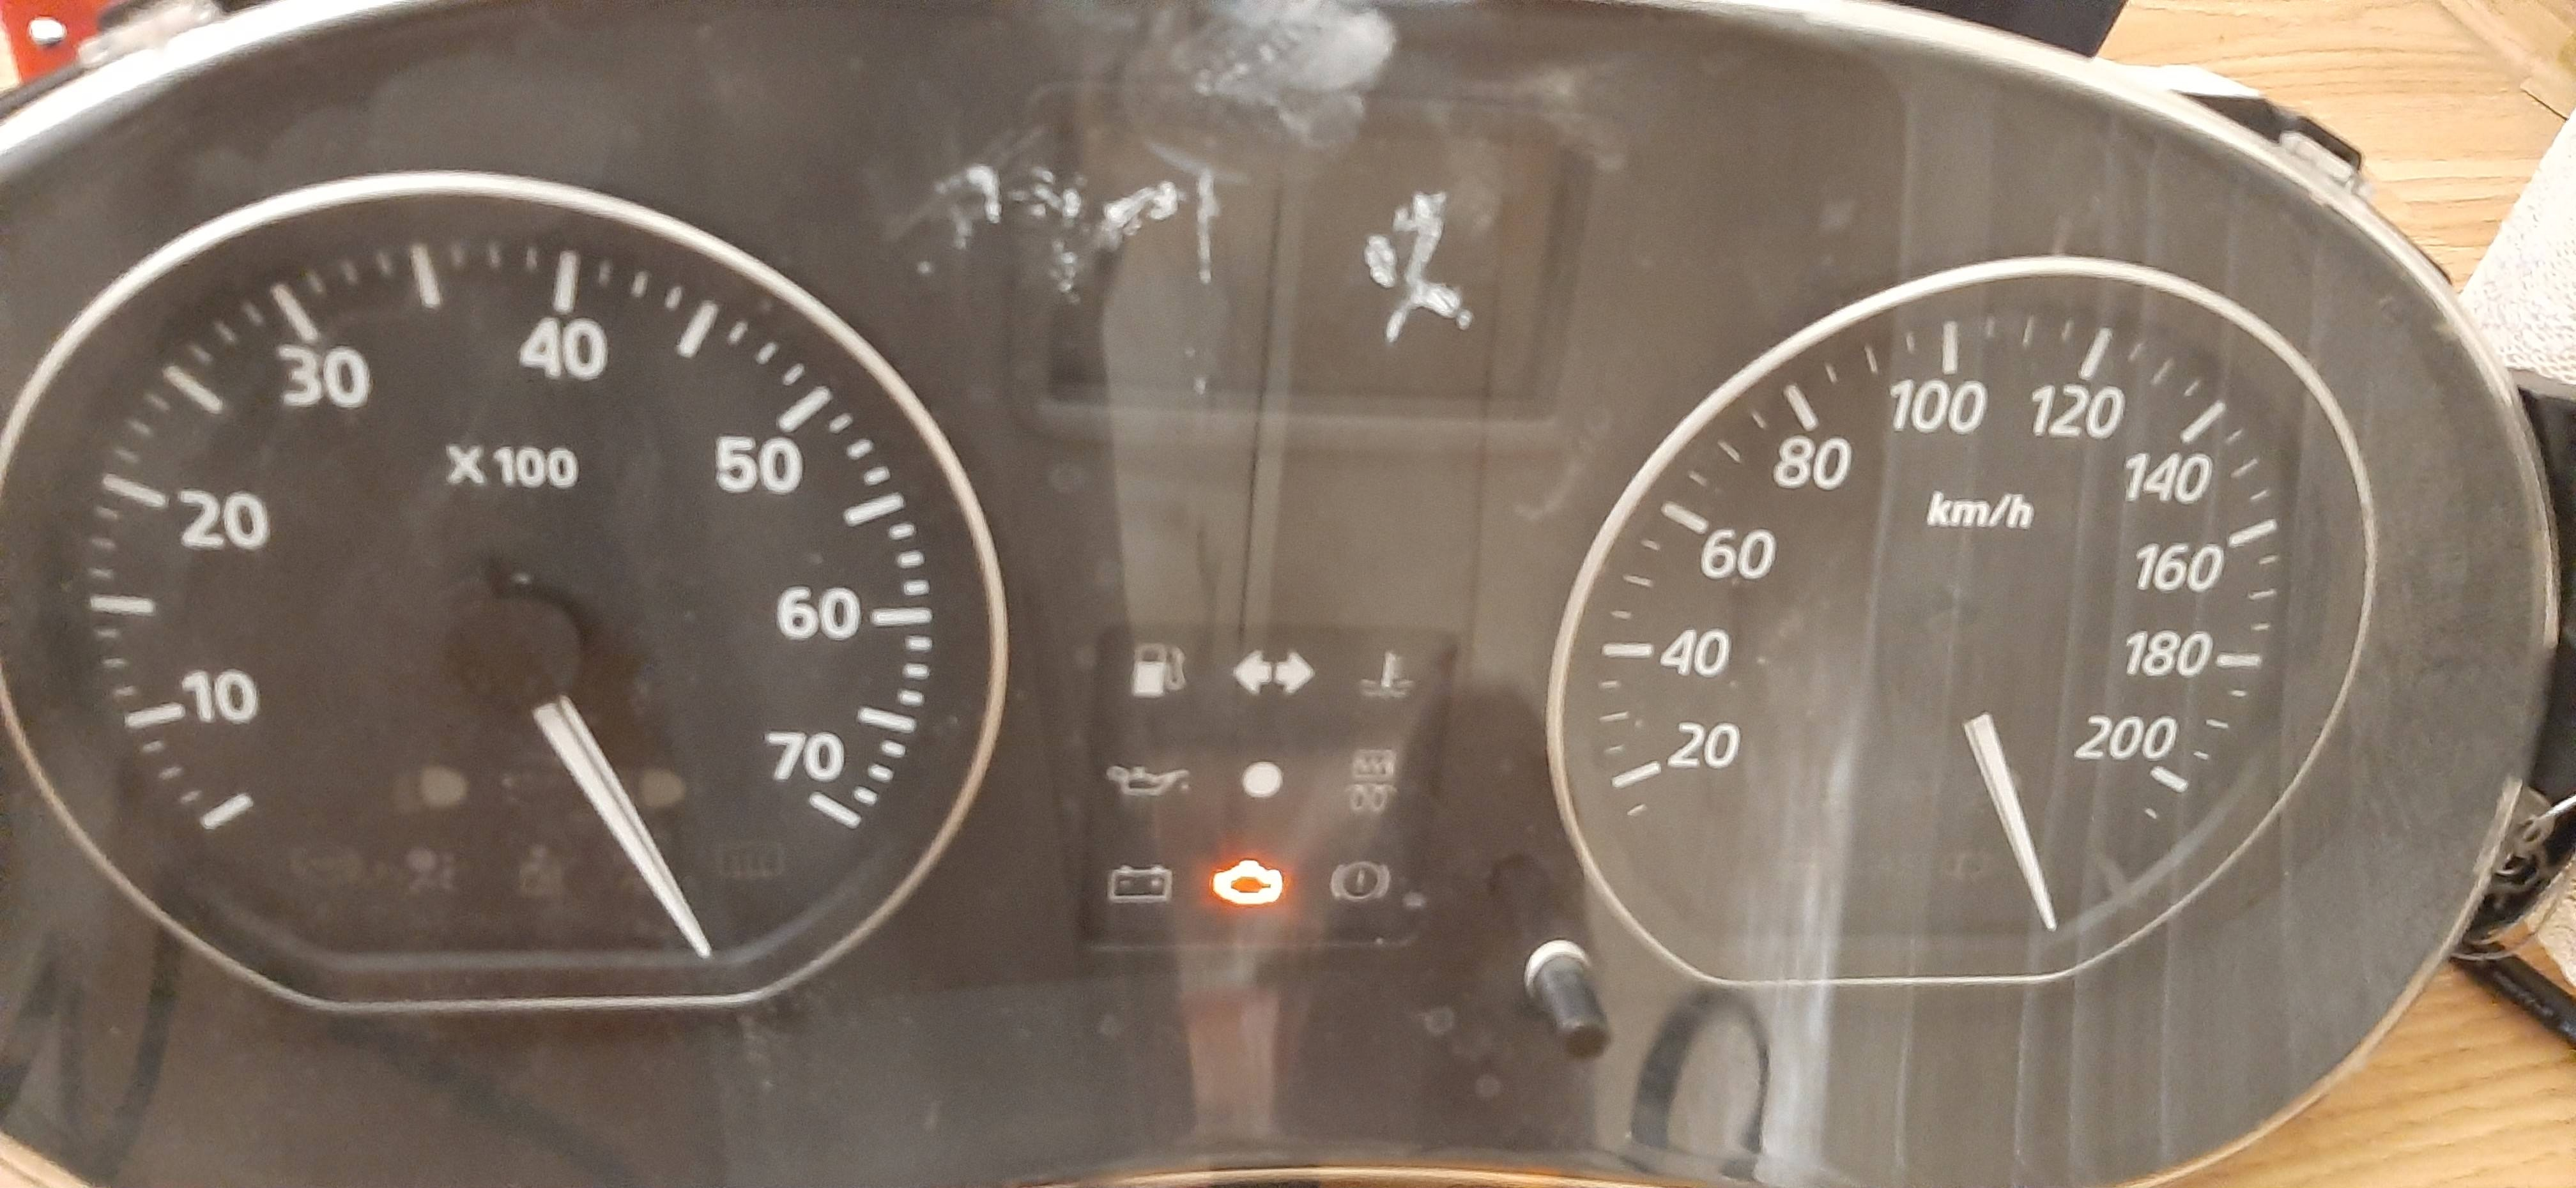engine9: (1207, 854, 1293, 912)
